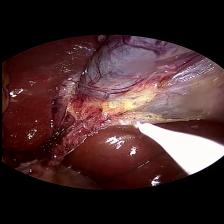Hook: (129, 118, 224, 178)
